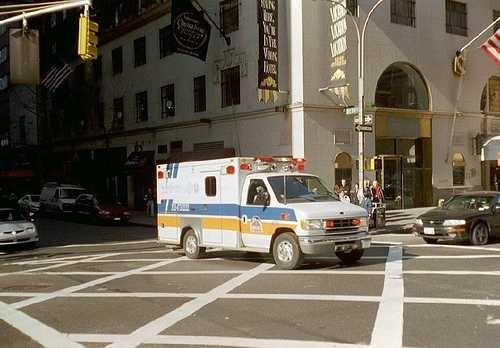car: (154, 155, 371, 269)
